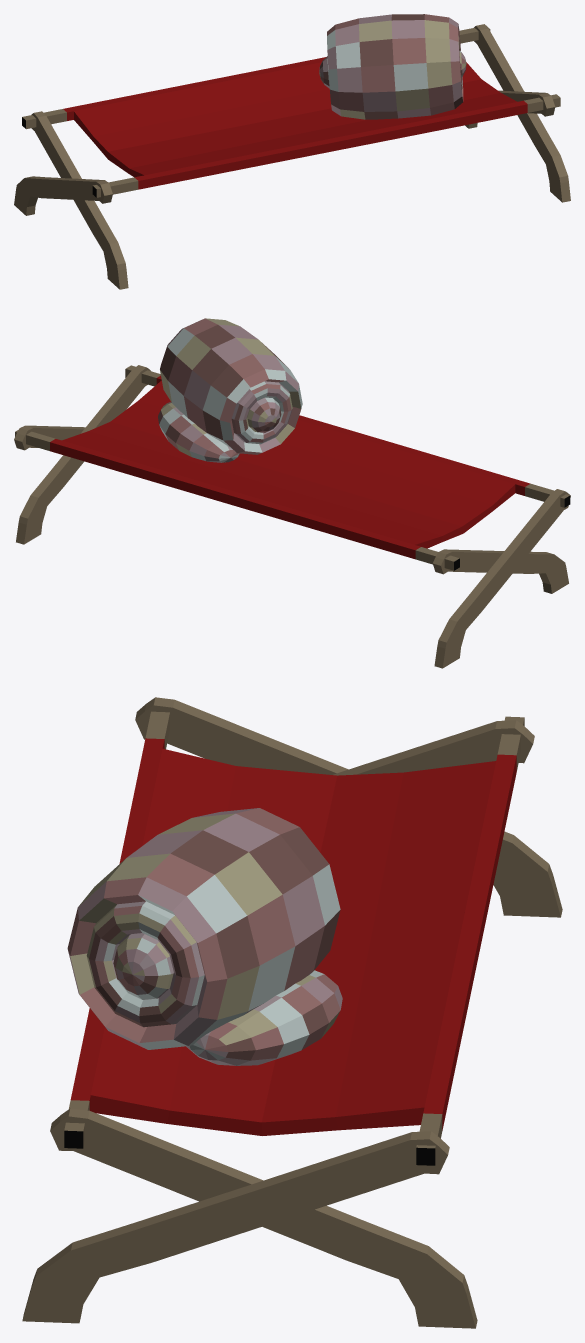
Rendered from Sleeping_cot_red_90.glb.
3 renders of one model, top to bottom at view 1: azimuth 30°, elevation 25°; view 2: azimuth 150°, elevation 25°; view 3: azimuth 270°, elevation 25°, orthographic. The views are drawn at different scales.
Visible parts, largest first — view 1: group525752226, group1041837734, group802491558, group2041126463, group1224999123, group1577345827, group215986146, group1037513086; view 2: group525752226, group1041837734, group215986146, group1577345827, group1037513086, group2041126463, group559781611, group802491558, group955491185, group911579974, group1224999123; view 3: group525752226, group1041837734, group1224999123, group1037513086, group1577345827, group215986146, group499535218, group559781611, group802491558, group2041126463, group2051142577.
Boxes of the visible parts, box(x1,y1,x2,y2) form: group525752226: box(74, 62, 517, 177); group1041837734: box(327, 14, 463, 119); group802491558: box(92, 94, 560, 197); group2041126463: box(31, 111, 128, 289); group1224999123: box(474, 24, 570, 202); group1577345827: box(14, 176, 112, 215); group215986146: box(22, 25, 490, 129); group1037513086: box(465, 90, 555, 128); group525752226: box(62, 380, 515, 548); group1041837734: box(160, 318, 302, 454); group215986146: box(15, 430, 459, 570); group1577345827: box(434, 489, 570, 668); group1037513086: box(16, 365, 150, 544); group2041126463: box(432, 549, 568, 593); group559781611: box(158, 402, 239, 462); group802491558: box(125, 365, 570, 507); group955491185: box(231, 381, 292, 444); group911579974: box(247, 397, 281, 432); group1224999123: box(14, 425, 85, 450); group525752226: box(91, 748, 495, 1135); group1041837734: box(67, 808, 340, 1049); group1224999123: box(22, 1131, 449, 1323); group1037513086: box(50, 1108, 477, 1328); group1577345827: box(135, 697, 562, 917); group215986146: box(416, 716, 524, 1165); group499535218: box(86, 901, 204, 1027); group559781611: box(186, 970, 342, 1065); group802491558: box(64, 711, 169, 1148); group2041126463: box(333, 720, 534, 775); group2051142577: box(113, 933, 173, 999).
Size of the model in its own units: 1.11 by 0.4162 by 0.5645.
